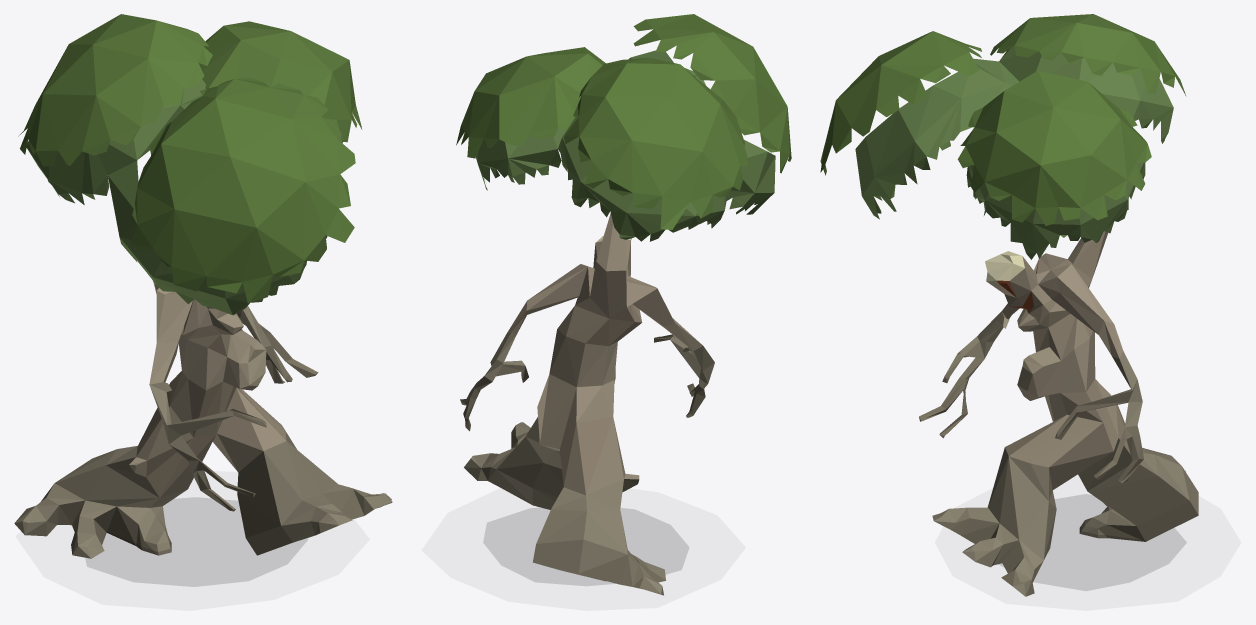
The model's file is ent.glb.
The picture shows the model from 3 angles, left to right: view 1: azimuth 30°, elevation 25°; view 2: azimuth 150°, elevation 25°; view 3: azimuth 270°, elevation 25°; orthographic projection. The views are drawn at different scales.
Size of the model in its own units: 271 by 429 by 325.
Materials: 2 (2 with a texture image).
